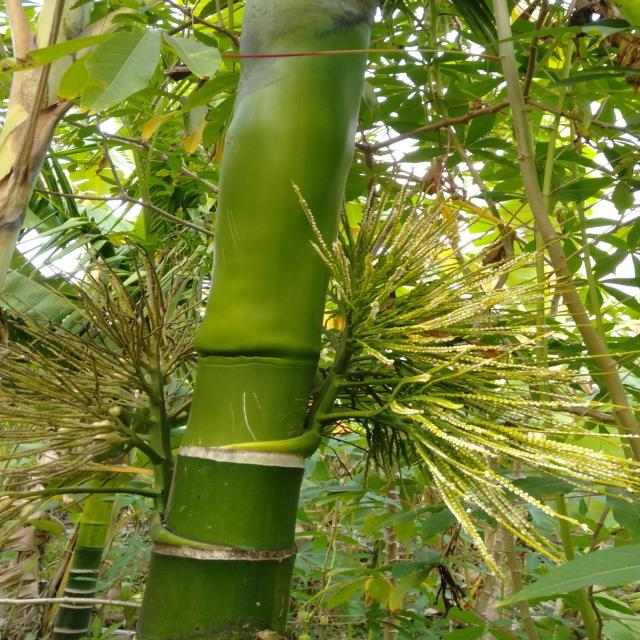Healthy_Trunk: (94, 95, 500, 542)
